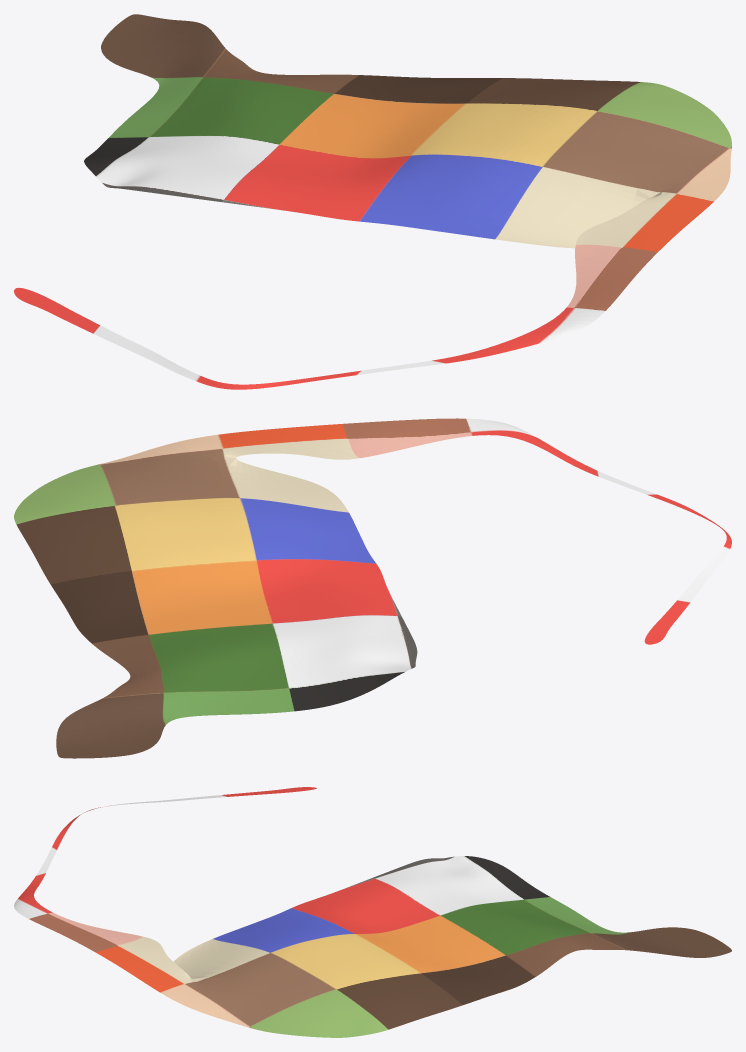
File: lvl2grassforestloopupper.fbx
The picture shows the model from 3 angles, top to bottom: view 1: azimuth 30°, elevation 25°; view 2: azimuth 150°, elevation 25°; view 3: azimuth 270°, elevation 25°; orthographic projection. The views are drawn at different scales.
Visible parts, largest first — view 1: forestloopuppergrass; view 2: forestloopuppergrass; view 3: forestloopuppergrass.
Boxes of the visible parts, x1,y1,x2,y2 form: forestloopuppergrass: (14,14,731,389); forestloopuppergrass: (14,418,731,758); forestloopuppergrass: (14,787,731,1037).
Size of the model in its own units: 61.44 by 4.14 by 72.3.
